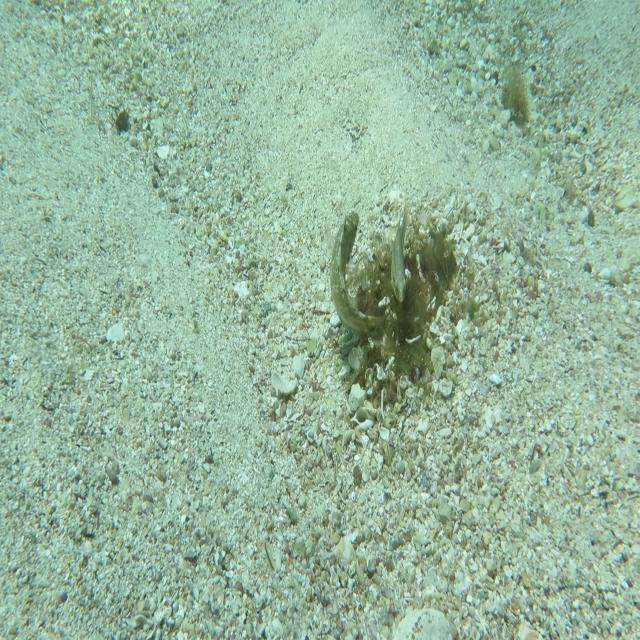BEND: (324, 203, 394, 341)
female: (391, 201, 415, 308)
nest: (327, 193, 465, 409)
